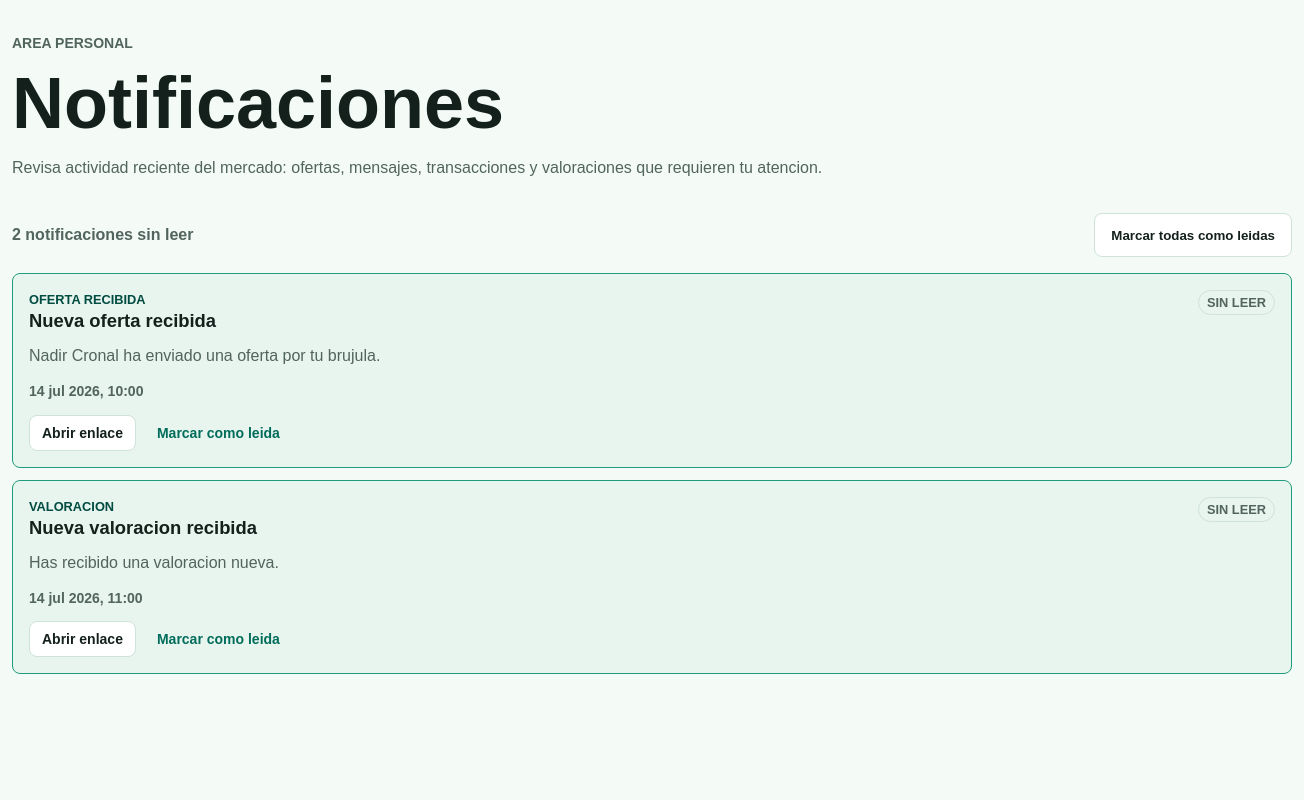
Test: NotificationsPage › marks every notification as read
expect the text "2 notificaciones sin leer" is shown: met, box [12,226,193,244]
Click the button "Marcar todas como leidas" at (1193, 236), box [1094,214,1292,258]
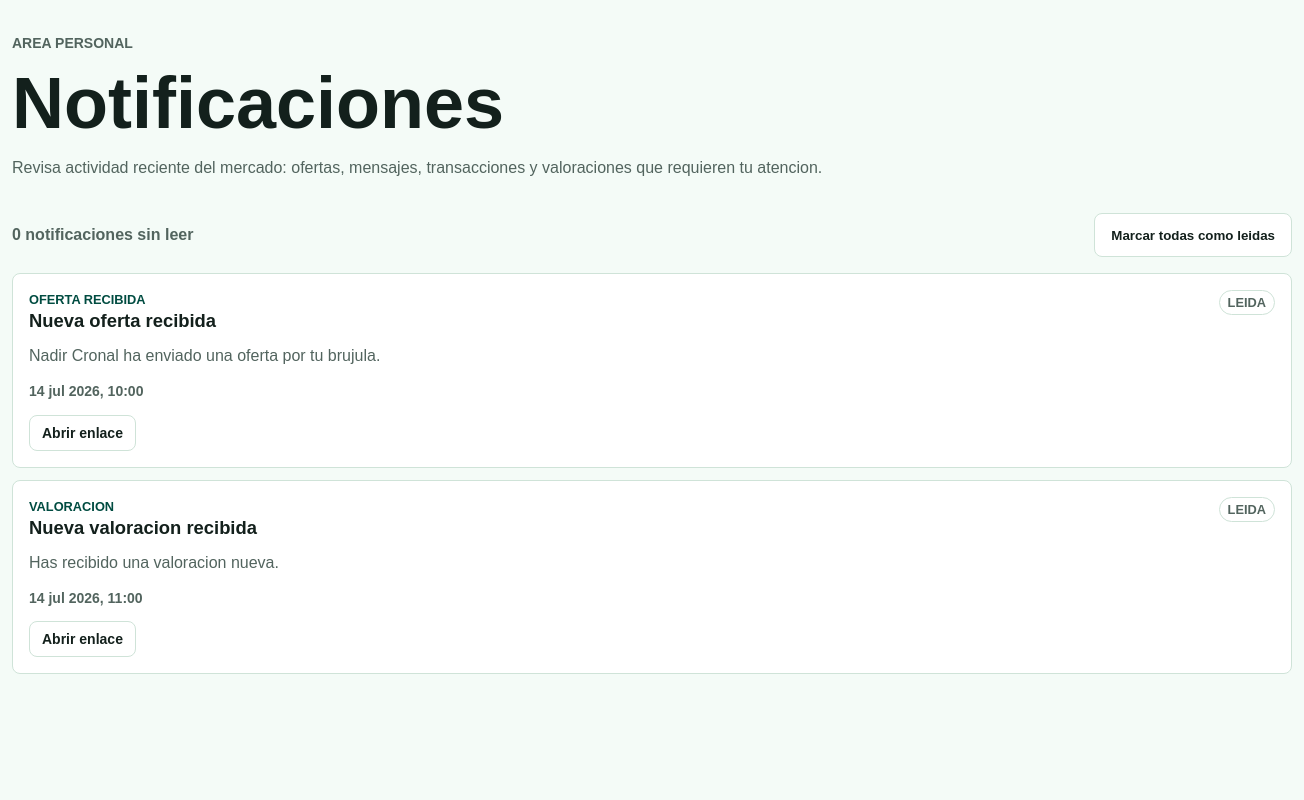
expect the text "0 notificaciones sin leer" is shown: met, box [12,226,193,244]
